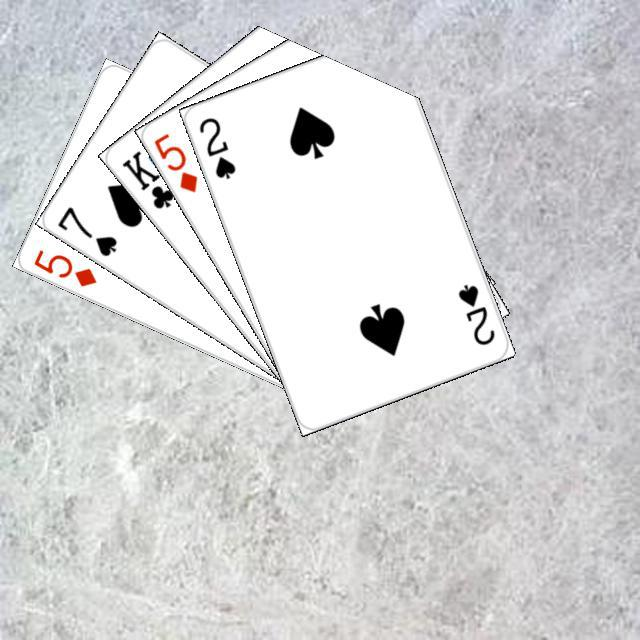2s: (194, 112, 238, 181), (453, 279, 497, 347)
5d: (149, 128, 200, 194), (29, 244, 99, 289)
7s: (52, 201, 119, 259)
Kc: (116, 145, 188, 211)
